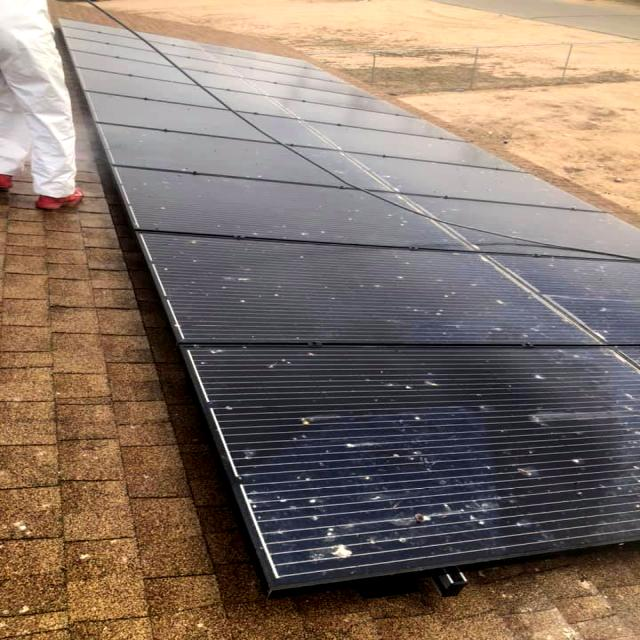bird: (274, 466, 514, 562), (379, 258, 571, 346), (502, 361, 615, 507), (147, 228, 292, 324), (256, 397, 446, 452)
